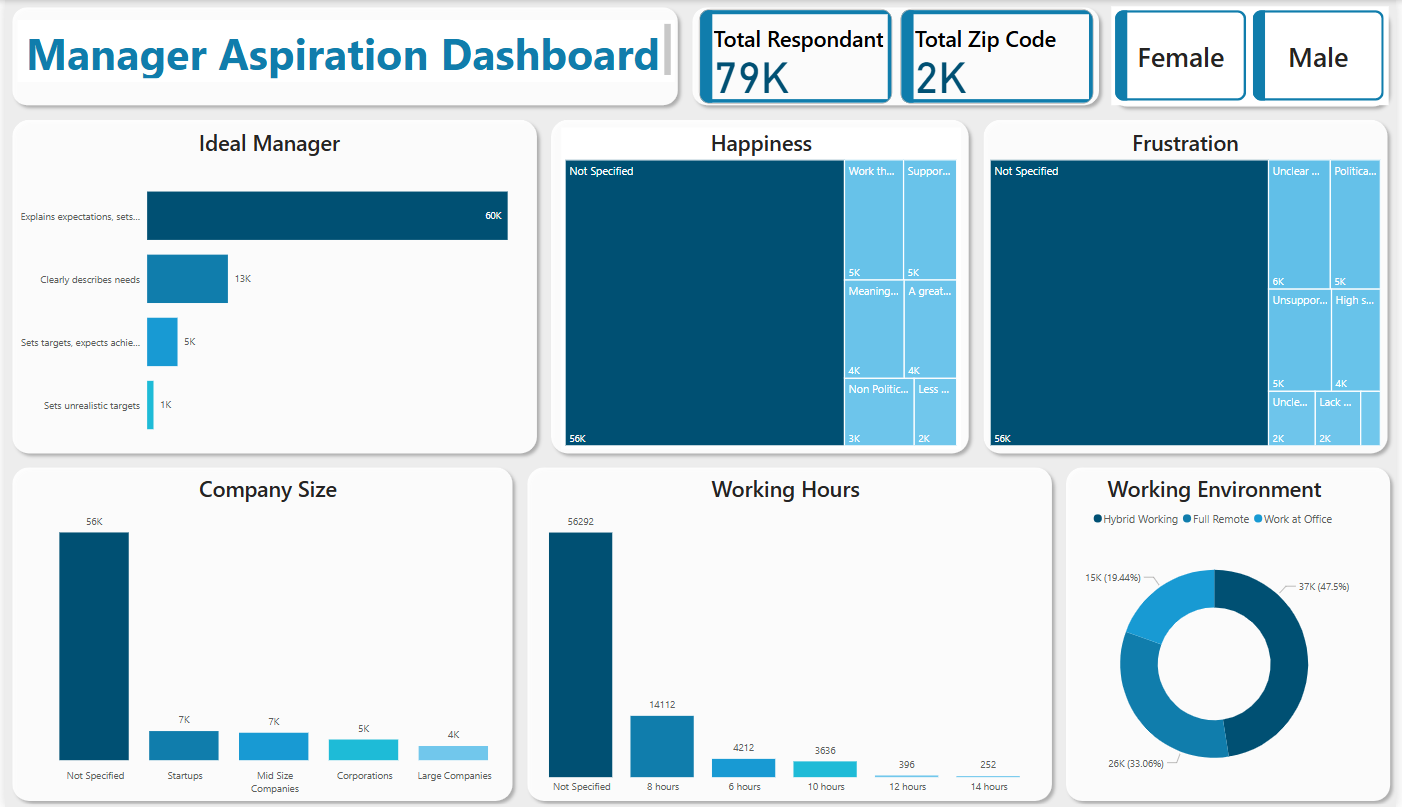

What the dashboard file says about the page in this screenshot:
{"tool":"powerbi","page":{"name":"Manager Aspirations","canvas":[1720,1000],"ordinal":0},"visuals":[{"type":"shape","box":[1360.6,0,358.6,140.8],"z":0},{"type":"advancedSlicerVisual","fields":{"Values":["Table1_1 (2).Gender"]},"box":[1369,8.4,343.5,122.3],"z":1000},{"type":"shape","box":[841.2,0,521.1,139.1],"z":2000},{"type":"shape","box":[1201.4,139.1,517.8,430.6],"z":3000},{"type":"shape","box":[666.9,139.1,534.5,430.6],"z":4000},{"type":"shape","box":[0,0,841.2,139.1],"z":5000},{"type":"shape","box":[0,139.1,666.9,430.6],"z":6000},{"type":"barChart","title":"Ideal Manager","fields":{"Category":["Table1_1 (2).Ideal Manager"],"Y":["Table1_1 (2).Total Respondant"]},"box":[0,157.5,653.5,412.2],"z":7000},{"type":"shape","box":[0,569.7,636.7,430.6],"z":8000},{"type":"shape","box":[1303.6,569.7,418.9,430.6],"z":9000},{"type":"donutChart","title":"Working Environment","fields":{"Category":["Table1_1 (2).Working Environment"],"Y":["Table1_1 (2).Total Respondant"]},"box":[1286.9,586.5,418.9,405.5],"z":10000},{"type":"shape","box":[636.7,569.7,666.9,430.6],"z":11000},{"type":"clusteredColumnChart","title":"Company Size","fields":{"Category":["Table1_1 (2).Company Size"],"Y":["Table1_1 (2).Total Respondant"]},"box":[0,586.5,650.1,405.5],"z":12000},{"type":"clusteredColumnChart","title":"Working Hours","fields":{"Category":["Table1_1 (2).Working Hours"],"Y":["Table1_1 (2).Total Respondant"]},"box":[628.4,586.5,675.3,405.5],"z":13000},{"type":"treemap","title":"Happiness","fields":{"Group":["Table1_1 (2).Happiness"],"Values":["Table1_1 (2).Total Respondant"]},"box":[688.7,157.5,494.3,398.8],"z":14000},{"type":"treemap","title":"Frustration","fields":{"Group":["Table1_1 (2).Frustration"],"Values":["Table1_1 (2).Total Respondant"]},"box":[1213.1,157.5,492.6,398.8],"z":15000},{"type":"cardVisual","fields":{"Data":["Table1_1 (2).Total Respondant"]},"box":[852.9,6.7,249.7,127.3],"z":16000},{"type":"cardVisual","fields":{"Data":["Table1_1 (2).Total Zip Code"]},"box":[1102.6,6.7,249.7,127.3],"z":17000},{"type":"textbox","box":[15.1,25.1,812.7,77.1],"z":18000}]}

Visuals, with their boxes in screenshot pixels (x1, y1, x2, y2), scaled from the page's 1720x1000 canvas onto the 1402x807 screenshot:
shape: pyautogui.locateOnScreen(1109, 0, 1401, 114)
advancedSlicerVisual - Table1_1 (2).Gender: pyautogui.locateOnScreen(1116, 7, 1396, 105)
shape: pyautogui.locateOnScreen(686, 0, 1110, 112)
shape: pyautogui.locateOnScreen(979, 112, 1401, 460)
shape: pyautogui.locateOnScreen(544, 112, 979, 460)
shape: pyautogui.locateOnScreen(0, 0, 686, 112)
shape: pyautogui.locateOnScreen(0, 112, 544, 460)
"Ideal Manager" barChart: pyautogui.locateOnScreen(0, 127, 533, 460)
shape: pyautogui.locateOnScreen(0, 460, 519, 806)
shape: pyautogui.locateOnScreen(1063, 460, 1401, 806)
"Working Environment" donutChart: pyautogui.locateOnScreen(1049, 473, 1390, 801)
shape: pyautogui.locateOnScreen(519, 460, 1063, 806)
"Company Size" clusteredColumnChart: pyautogui.locateOnScreen(0, 473, 530, 801)
"Working Hours" clusteredColumnChart: pyautogui.locateOnScreen(512, 473, 1063, 801)
"Happiness" treemap: pyautogui.locateOnScreen(561, 127, 964, 449)
"Frustration" treemap: pyautogui.locateOnScreen(989, 127, 1390, 449)
cardVisual - Table1_1 (2).Total Respondant: pyautogui.locateOnScreen(695, 5, 899, 108)
cardVisual - Table1_1 (2).Total Zip Code: pyautogui.locateOnScreen(899, 5, 1102, 108)
textbox: pyautogui.locateOnScreen(12, 20, 675, 82)
